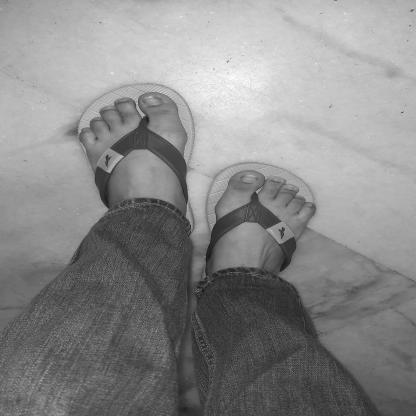ankle: (225, 270, 231, 274), (168, 221, 176, 223)
heel: (203, 285, 207, 288), (187, 230, 188, 233)
left_foot: (77, 90, 198, 250)
pinky: (308, 205, 315, 209), (85, 132, 93, 135)
right_foot: (199, 168, 319, 299)
toe: (240, 175, 249, 180), (153, 95, 161, 100)
